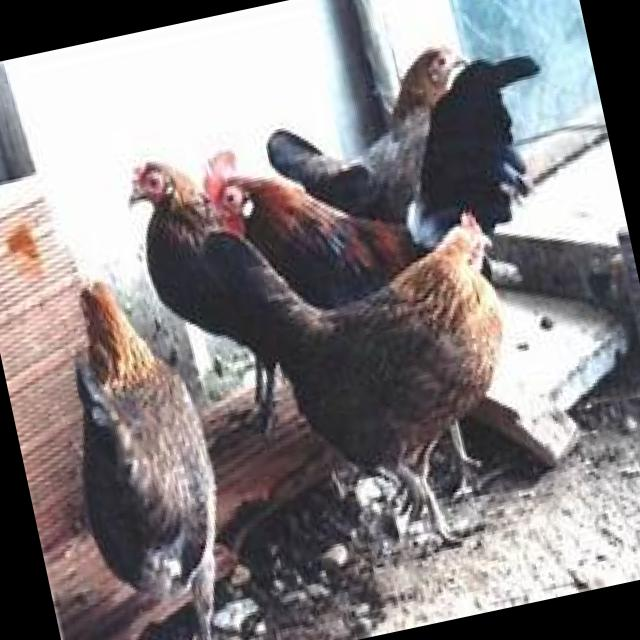chicken: (178, 159, 556, 536), (260, 7, 592, 231), (38, 252, 224, 636), (104, 92, 276, 246)
